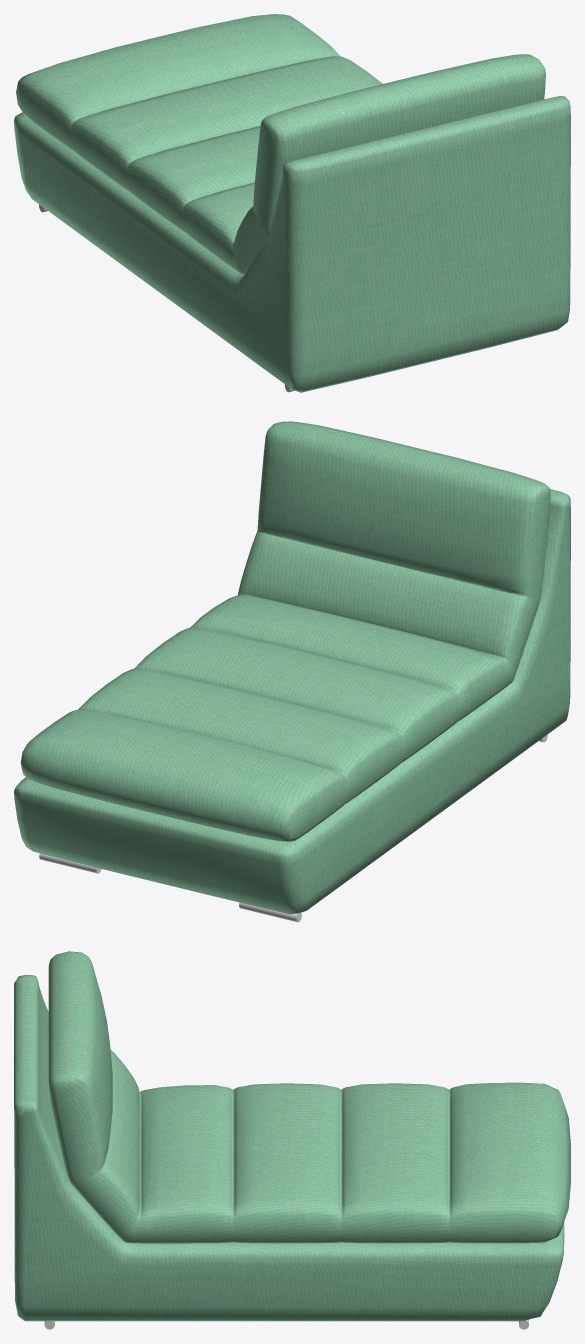
Rendered from one.fbx.
3 views of the same model, one above another, from view 1: azimuth 30°, elevation 25°; view 2: azimuth 150°, elevation 25°; view 3: azimuth 270°, elevation 25° (orthographic). The views are drawn at different scales.
Visible parts, largest first — view 1: Cube, Plane; view 2: Plane, Cube, Cylinder.001; view 3: Plane, Cube.
Part boxes in pixels (x1,y1,x2,y2): Cube: (14,96,570,392); Plane: (16,14,545,274); Plane: (20,421,550,841); Cube: (14,489,570,914); Cylinder.001: (39,734,547,922); Plane: (48,951,570,1243); Cube: (14,975,564,1321).
Bounding box in the file's own units: 80.01 × 73.09 × 142.
